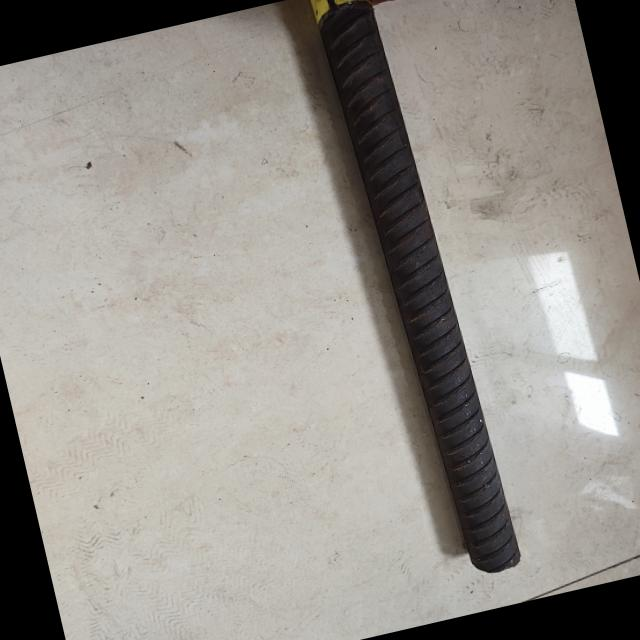ribbed bar: (303, 0, 530, 585)
